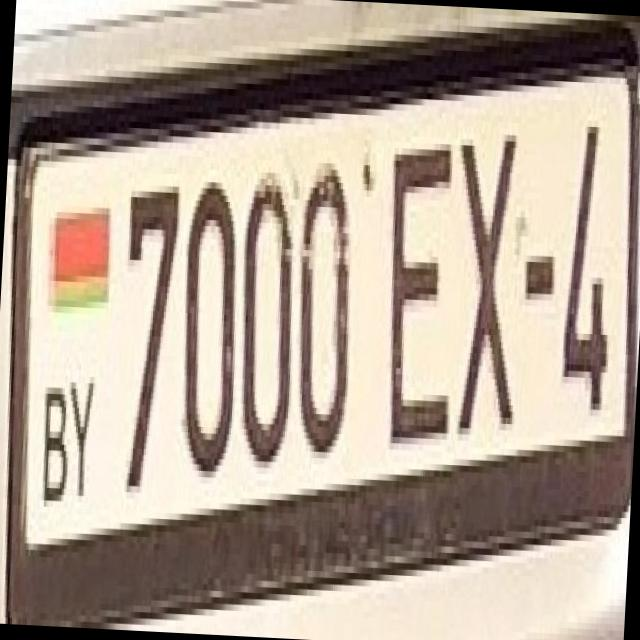0: (280, 143, 371, 460), (225, 152, 304, 469), (166, 156, 242, 472)
4: (545, 100, 628, 417)
7: (110, 165, 184, 482)
E: (364, 122, 463, 453)
X: (438, 113, 535, 437)
